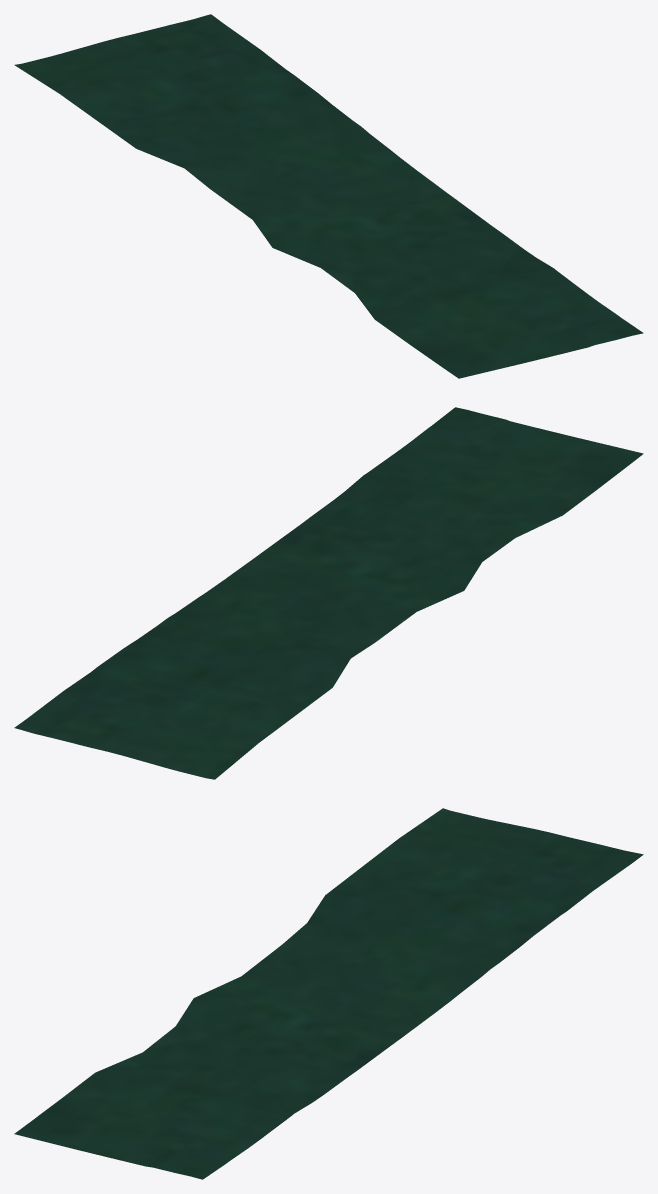
3 views of the same model, one above another, from view 1: azimuth 30°, elevation 25°; view 2: azimuth 150°, elevation 25°; view 3: azimuth 330°, elevation 25° (orthographic).
Bounding box in the file's own units: 13.73 × 0.5219 × 52.22.
1 material, 1 textured.
